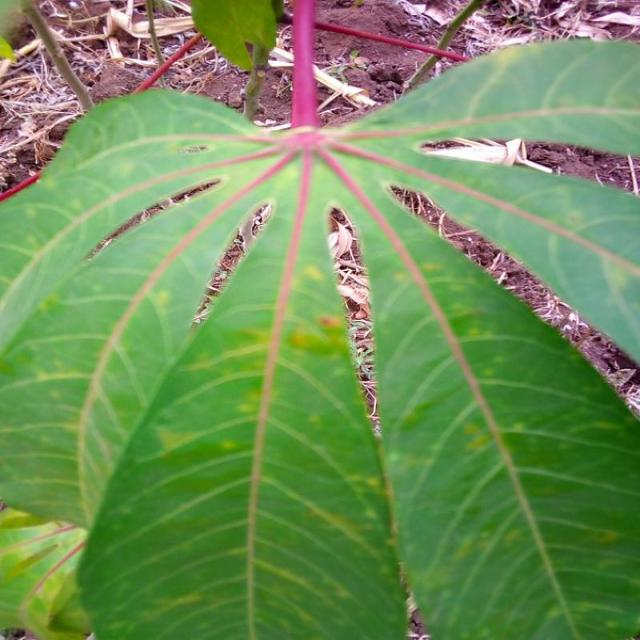cassava leaf: (0, 34, 638, 637)
